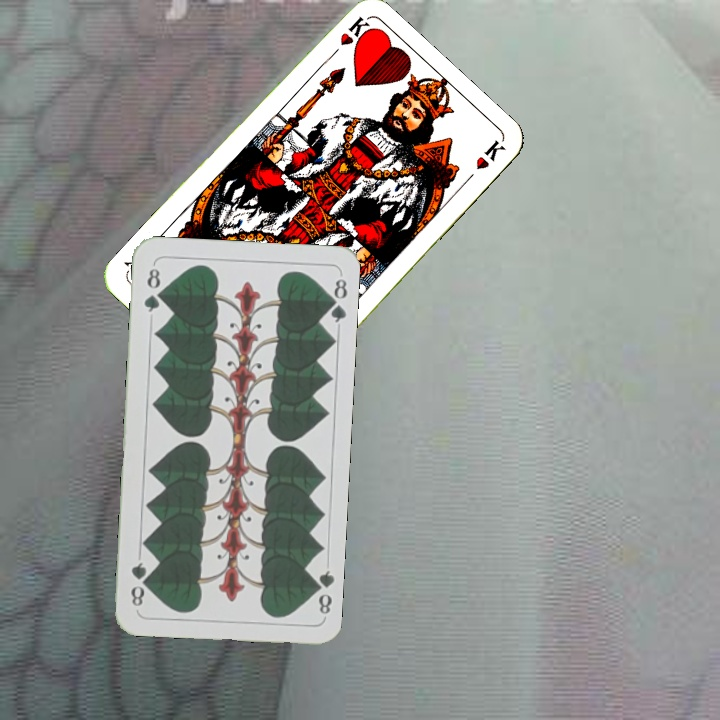G8: (307, 566, 336, 616), (139, 261, 164, 315)
HK: (323, 12, 371, 64)
